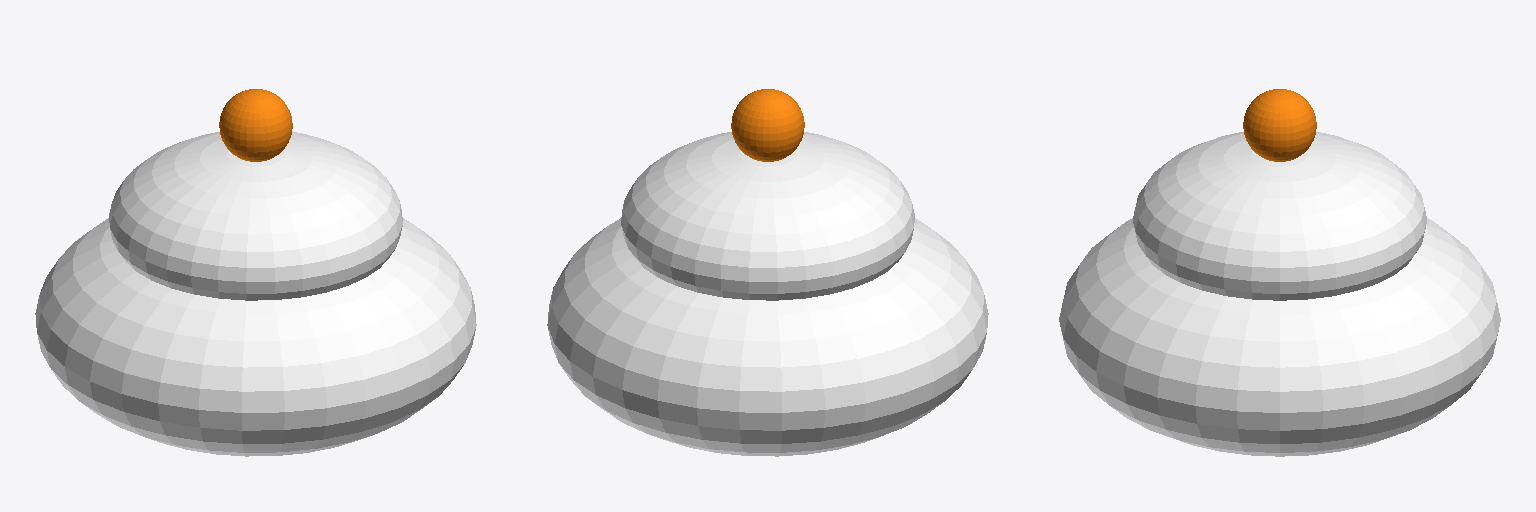
3 views of the same model, side by side, from view 1: azimuth 30°, elevation 25°; view 2: azimuth 150°, elevation 25°; view 3: azimuth 270°, elevation 25° (orthographic).
Visible parts, largest first — view 1: 球.002; view 2: 球.002; view 3: 球.002.
Part boxes in pixels (x1,y1,x2,y2): 球.002: (35, 89, 476, 456); 球.002: (547, 89, 988, 456); 球.002: (1059, 89, 1500, 456).
Bounding box in the file's own units: 30 × 24.55 × 30.
1 materials, 1 textured.